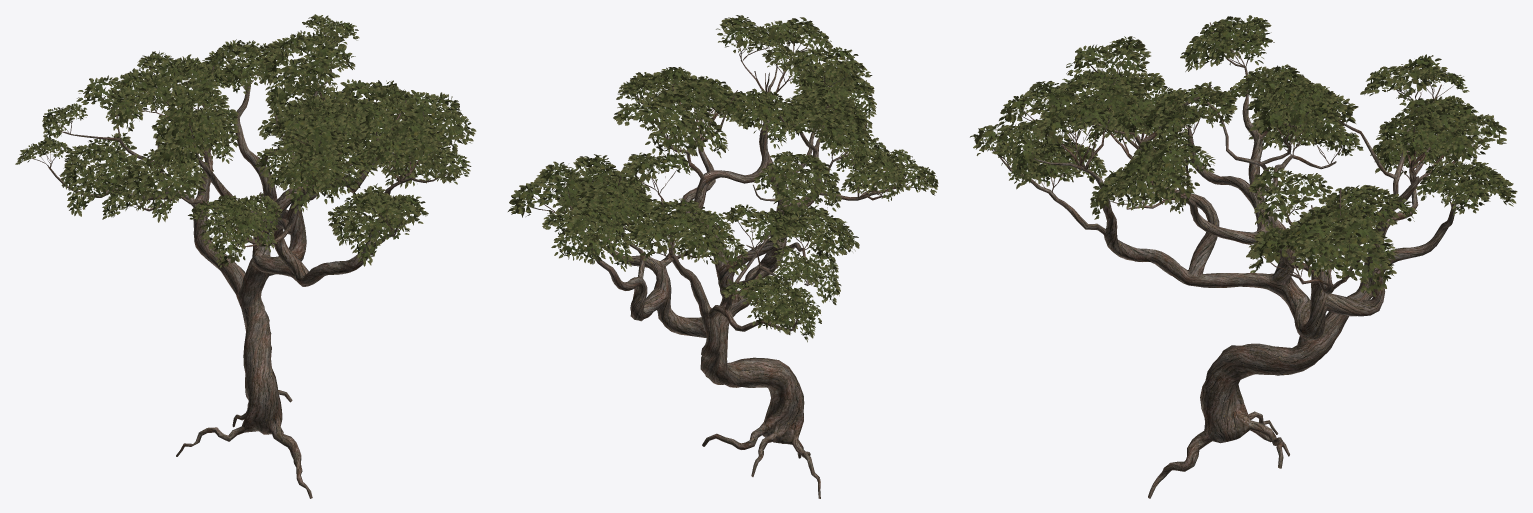
Rendered from old_tree.glb.
3 renders of one model, left to right at view 1: azimuth 30°, elevation 25°; view 2: azimuth 150°, elevation 25°; view 3: azimuth 270°, elevation 25°, orthographic. The views are drawn at different scales.
Visible parts, largest first — view 1: old tree_leaf old tree_0, old tree_old treetop_0, old tree_oldtrunk_0; view 2: old tree_leaf old tree_0, old tree_old treetop_0, old tree_oldtrunk_0; view 3: old tree_leaf old tree_0, old tree_old treetop_0, old tree_oldtrunk_0.
Boxes of the visible parts, x1,y1,x2,y2 form: old tree_leaf old tree_0: (15,14,476,267); old tree_old treetop_0: (21,17,470,264); old tree_oldtrunk_0: (27,22,451,498); old tree_leaf old tree_0: (508,15,938,342); old tree_old treetop_0: (514,18,934,335); old tree_oldtrunk_0: (526,32,924,498); old tree_leaf old tree_0: (970,15,1517,296); old tree_old treetop_0: (975,20,1511,293); old tree_oldtrunk_0: (985,22,1482,498).
Size of the model in its own units: 5.68 by 6.32 by 6.85.
Materials: 3 (3 with a texture image).
